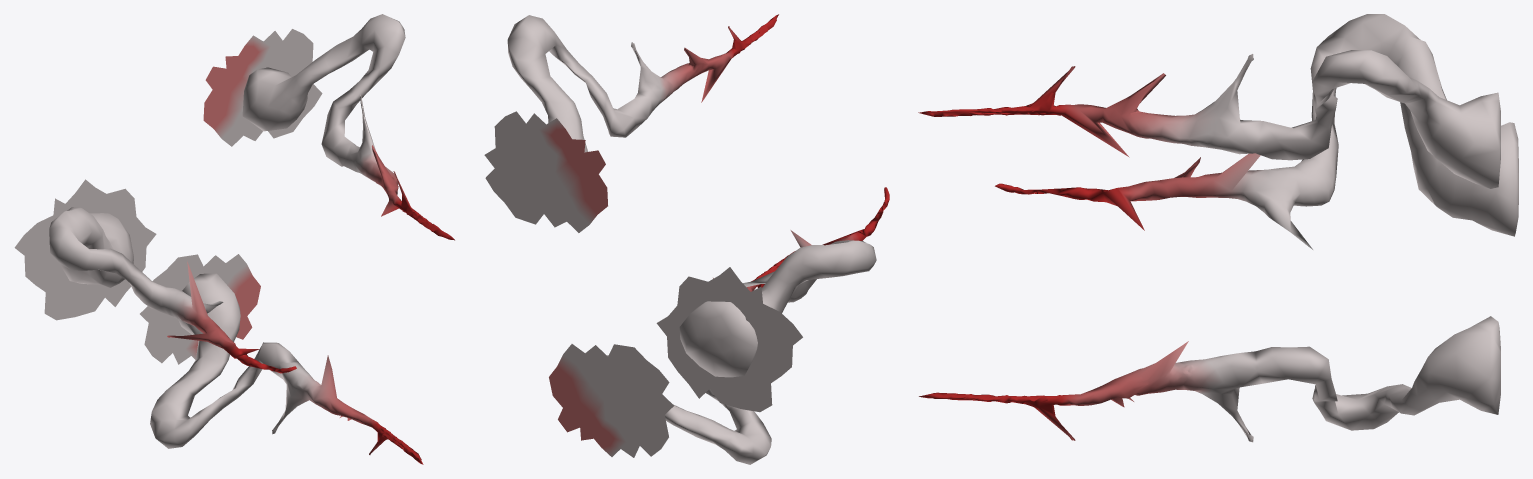
Rendered from spikes.dae.
3 renders of one model, left to right at view 1: azimuth 30°, elevation 25°; view 2: azimuth 150°, elevation 25°; view 3: azimuth 270°, elevation 25°, orthographic. The views are drawn at different scales.
Visible parts, largest first — view 1: Model; view 2: Model; view 3: Model.
Boxes of the visible parts, <box> form: Model: <box>14,14,454,464</box>; Model: <box>484,14,889,464</box>; Model: <box>918,14,1518,442</box>.
Size of the model in its own units: 17.3 by 17.86 by 18.45.
